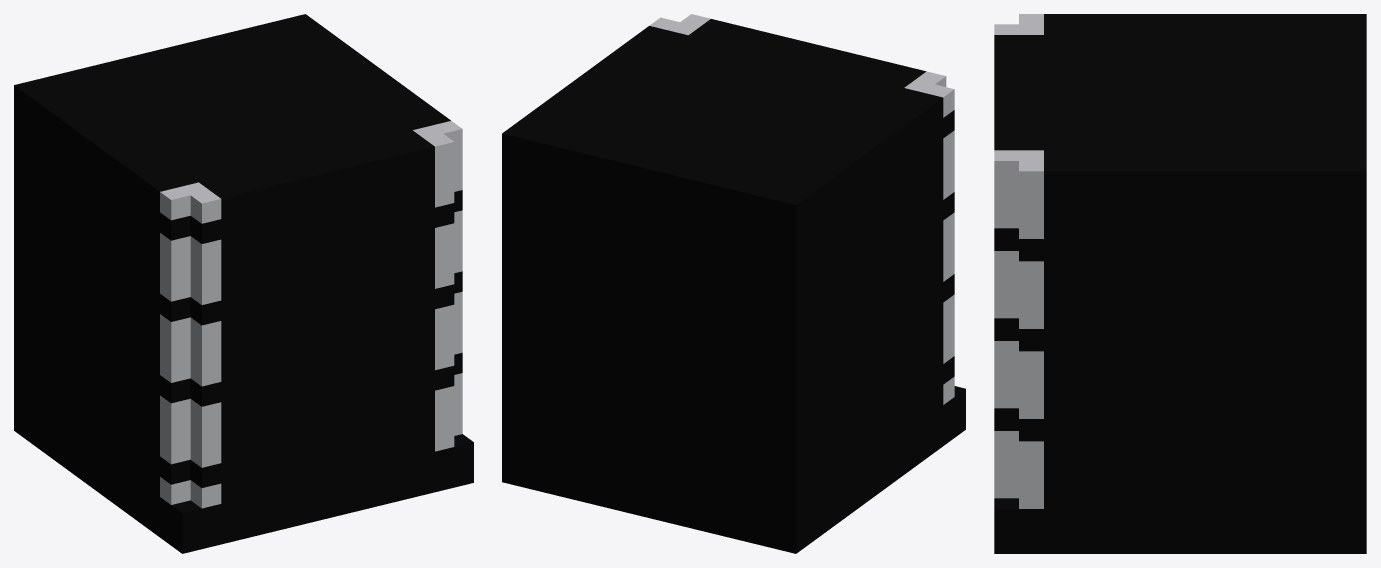
File: dungeon_d_b_outer_wall_segment_b_flipped.obj
3 views of the same model, side by side, from view 1: azimuth 30°, elevation 25°; view 2: azimuth 150°, elevation 25°; view 3: azimuth 270°, elevation 25° (orthographic). The views are drawn at different scales.
Bounding box in the file's own units: 1.5 × 1.7 × 1.5.
1 material, 1 textured.
